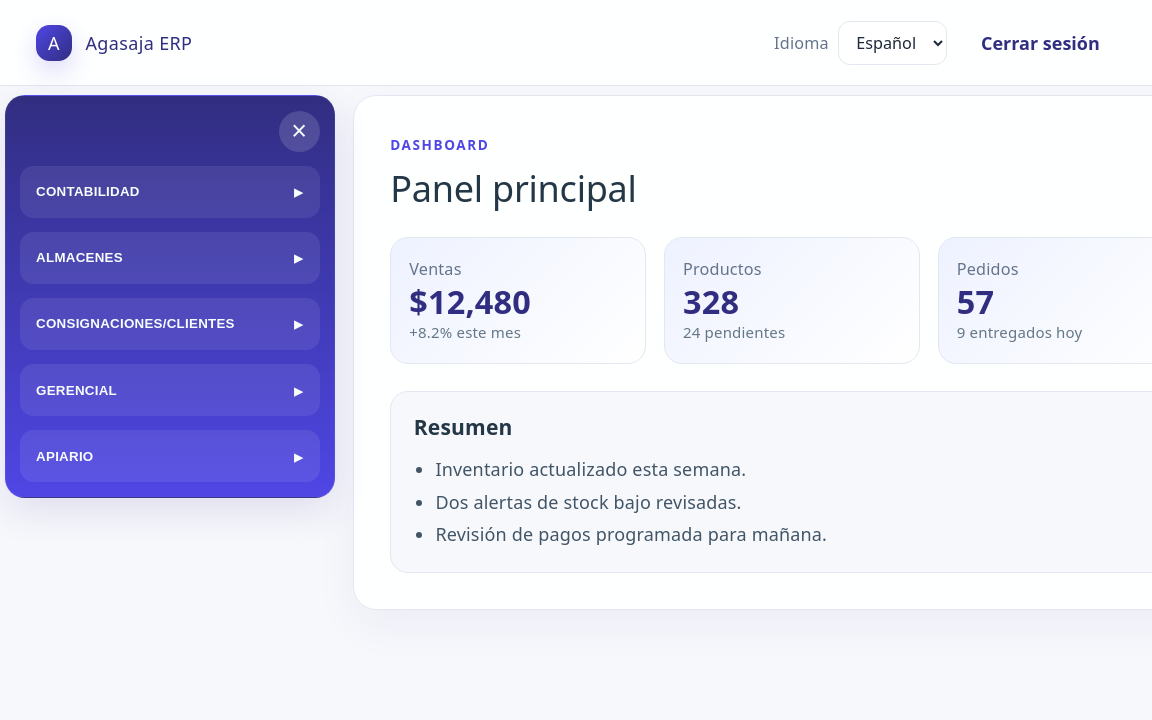
Test: allows opening and closing the dashboard sidebar with a hamburger button
This screenshot has width=1152, height=720.
Click the button "×". click: (299, 132)
box: 278,111 -> 320,152
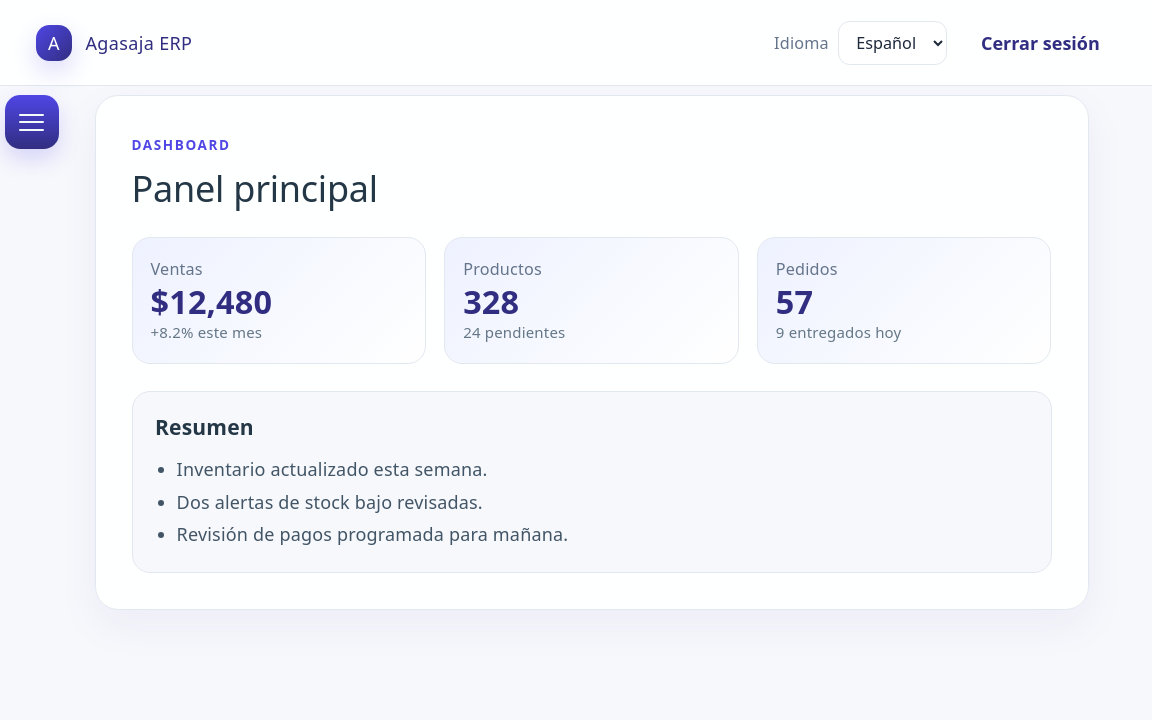
Expected: the button named "Abrir menú" is shown
Click the button named "Abrir menú". click: (32, 122)
box: 4,96 -> 58,150
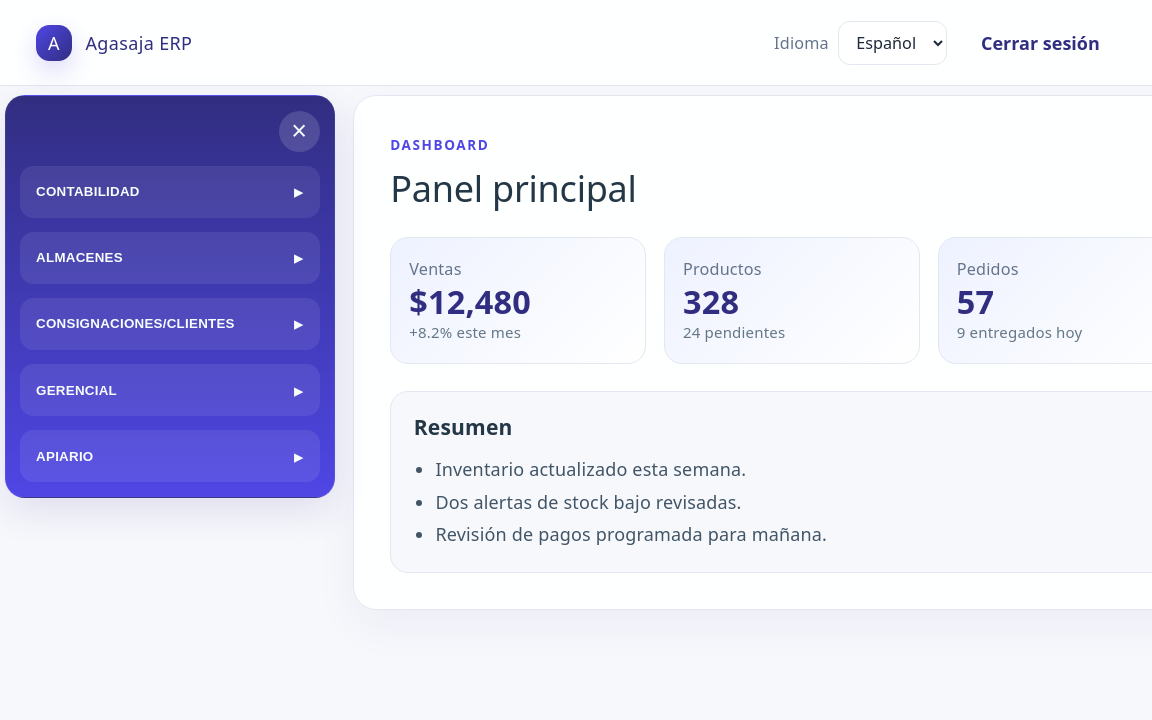
Expected: the button "×" is shown, 278,111 -> 320,152
